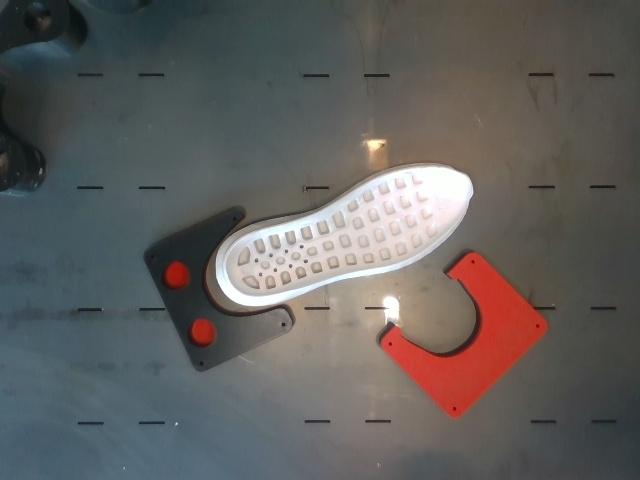shoes: (226, 168, 472, 297)
